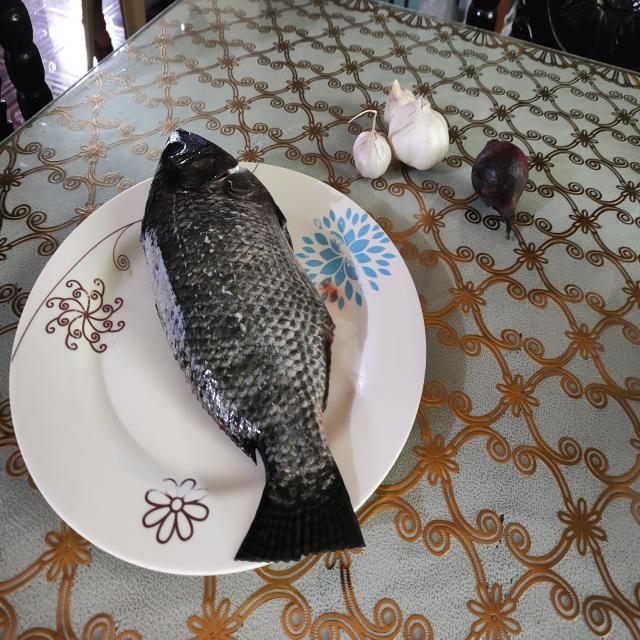fish: (142, 125, 366, 566)
garlic: (352, 77, 451, 177)
onion: (473, 133, 529, 227)
